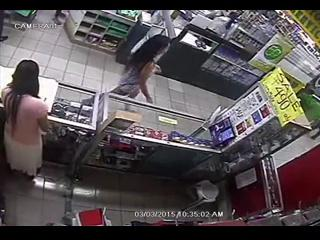Normal: (1, 59, 52, 181), (109, 32, 173, 104), (0, 10, 10, 42)
